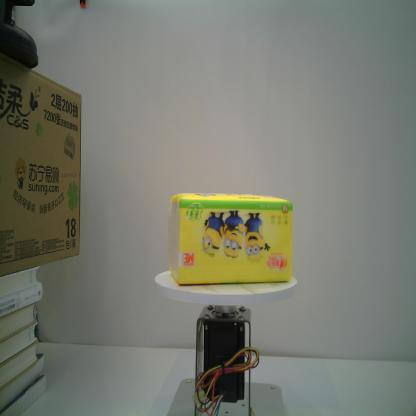Tissue: (166, 192, 293, 286)
